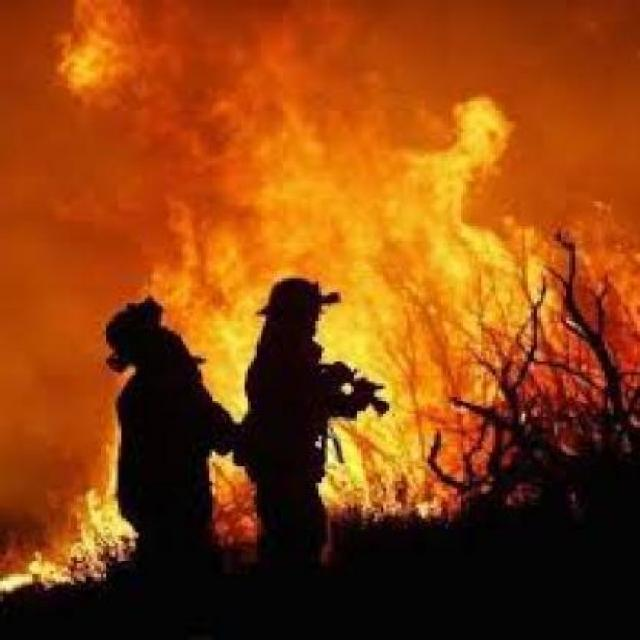Fire: (29, 58, 549, 607)
